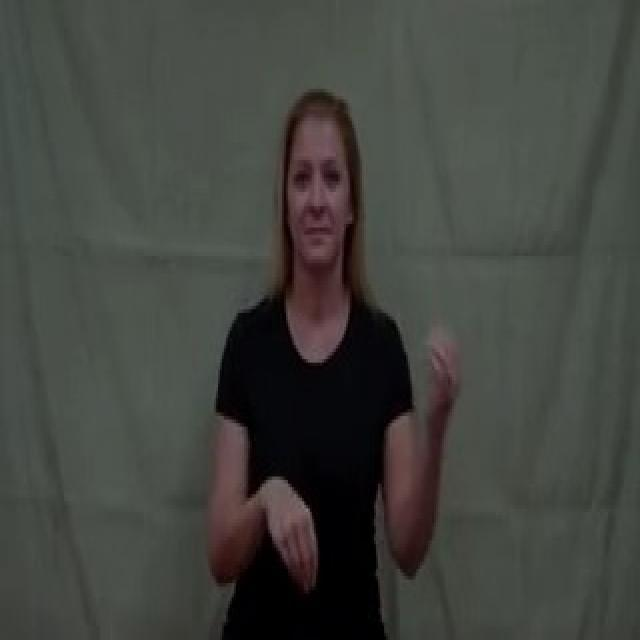ingredients: (260, 474, 324, 608), (422, 322, 464, 437)
